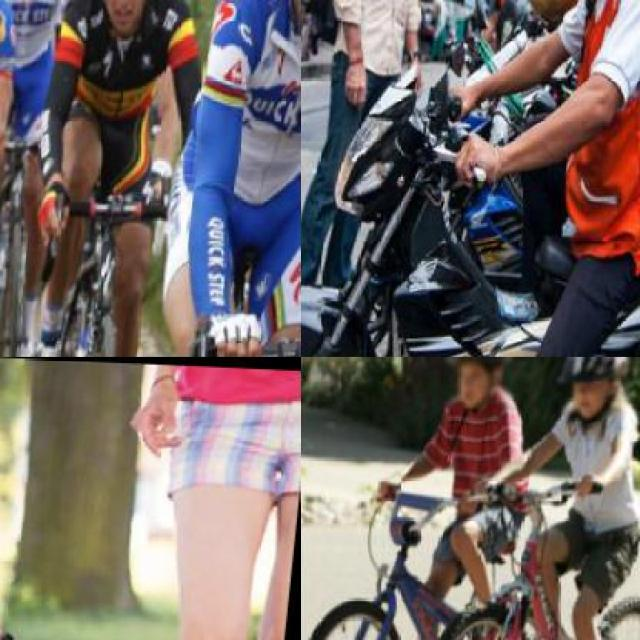With Helmet: (556, 357, 638, 418), (438, 357, 524, 409)
